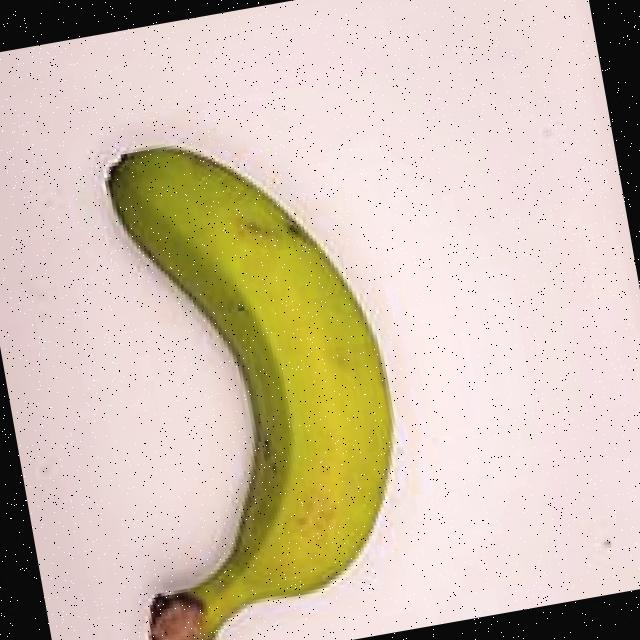Unripe: (0, 75, 489, 640)
